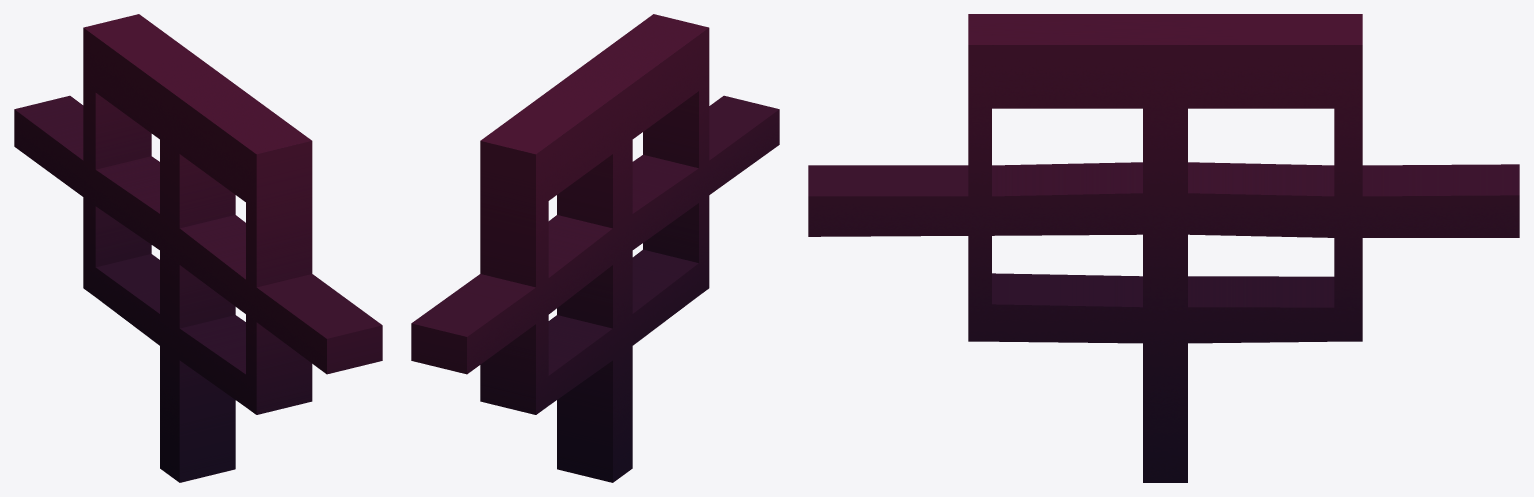
File: CercaC.fbx
3 renders of one model, left to right at view 1: azimuth 30°, elevation 25°; view 2: azimuth 150°, elevation 25°; view 3: azimuth 270°, elevation 25°, orthographic. The views are drawn at different scales.
Parts seen in each view (by area): view 1: Meio_2; view 2: Meio_2; view 3: Meio_2.
Boxes of the visible parts, bbox=[...] form: Meio_2: bbox=[14, 14, 382, 482]; Meio_2: bbox=[411, 14, 779, 482]; Meio_2: bbox=[808, 14, 1519, 482].
Bounding box in the file's own units: 0.4302 × 2.83 × 4.17.
